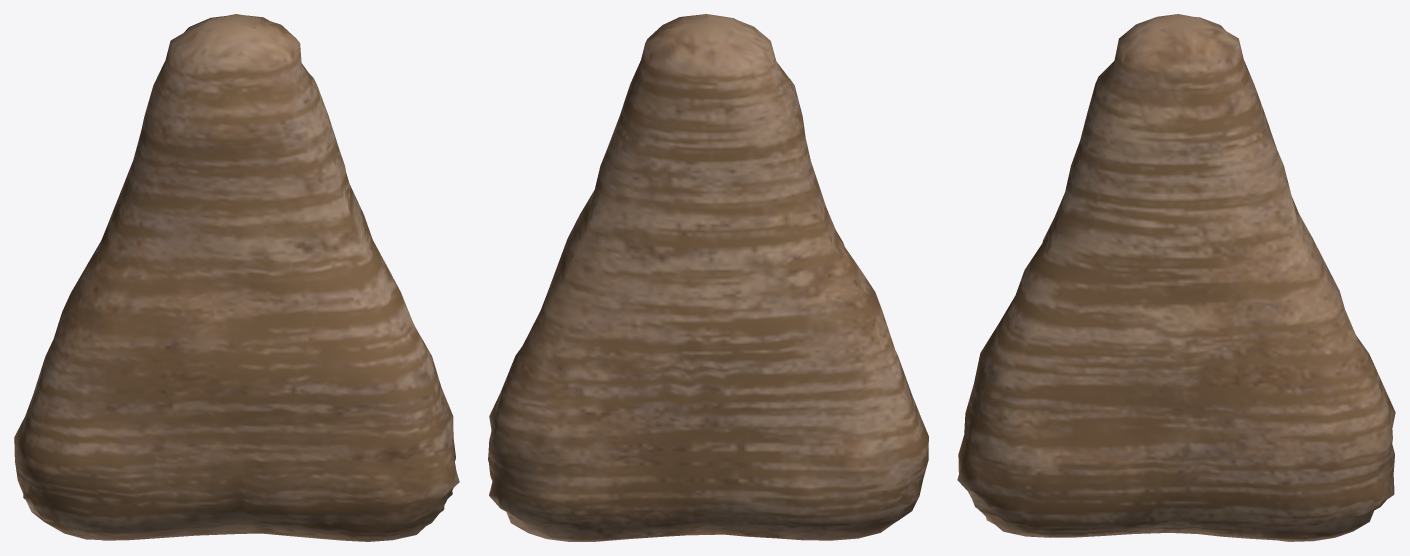
File: Temple Rock 1.fbx
The picture shows the model from 3 angles, left to right: view 1: azimuth 30°, elevation 25°; view 2: azimuth 150°, elevation 25°; view 3: azimuth 270°, elevation 25°; orthographic projection.
Parts seen in each view (by area): view 1: rock.007; view 2: rock.007; view 3: rock.007.
Boxes of the visible parts, x1=… form: rock.007: x1=14, y1=14, x2=459, y2=541; rock.007: x1=488, y1=14, x2=928, y2=541; rock.007: x1=957, y1=14, x2=1395, y2=541.
Size of the model in its own units: 53.8 by 70.2 by 58.11.
1 material, 1 textured.
